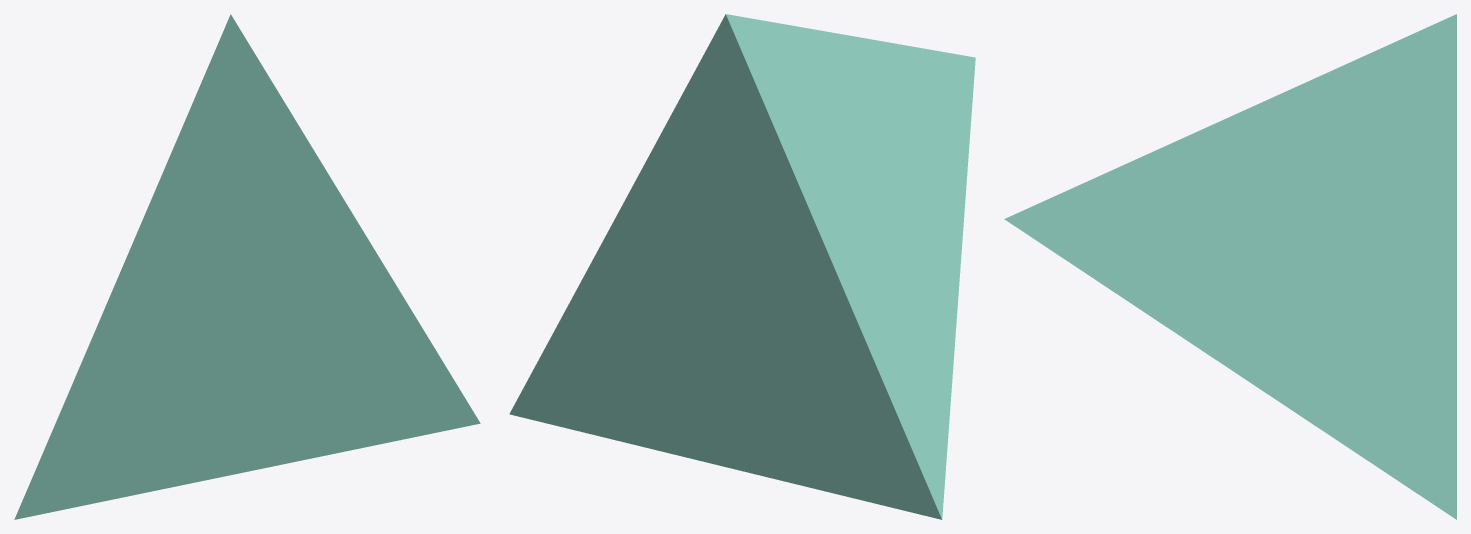
Rendered from device.gltf.
3 views of the same model, side by side, from view 1: azimuth 30°, elevation 25°; view 2: azimuth 150°, elevation 25°; view 3: azimuth 270°, elevation 25° (orthographic). The views are drawn at different scales.
Bounding box in the file's own units: 2 × 2 × 2.
